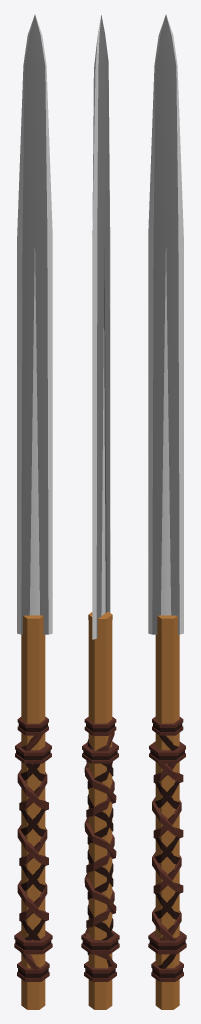
The model's file is Axe39.glb.
The picture shows the model from 3 angles, left to right: view 1: azimuth 90°, elevation 25°; view 2: azimuth 150°, elevation 25°; view 3: azimuth 270°, elevation 25°; orthographic projection.
Parts seen in each view (by area): view 1: weapon_generator; view 2: weapon_generator; view 3: weapon_generator.
Boxes of the visible parts, x1=… form: weapon_generator: x1=14, y1=14, x2=52, y2=1009; weapon_generator: x1=81, y1=15, x2=119, y2=1009; weapon_generator: x1=148, y1=14, x2=186, y2=1009.
Size of the model in its own units: 0.0556 by 1.83 by 0.0646.
